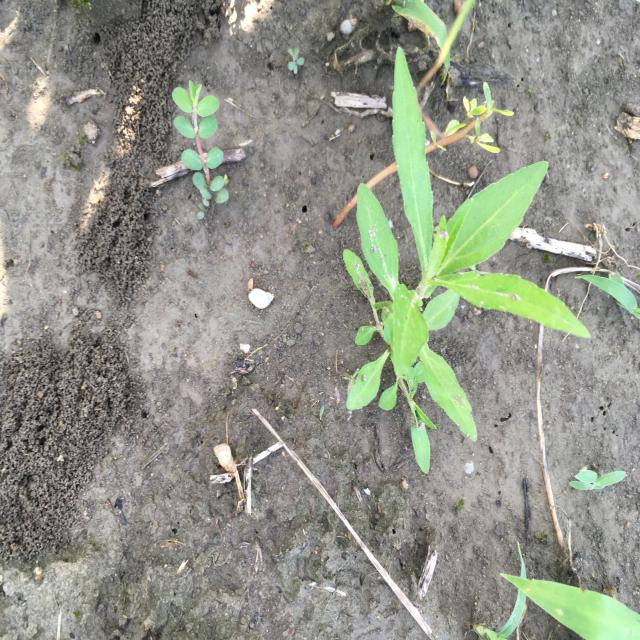Eclipta: (342, 44, 594, 477)
SpottedSpurge: (170, 78, 230, 223)
